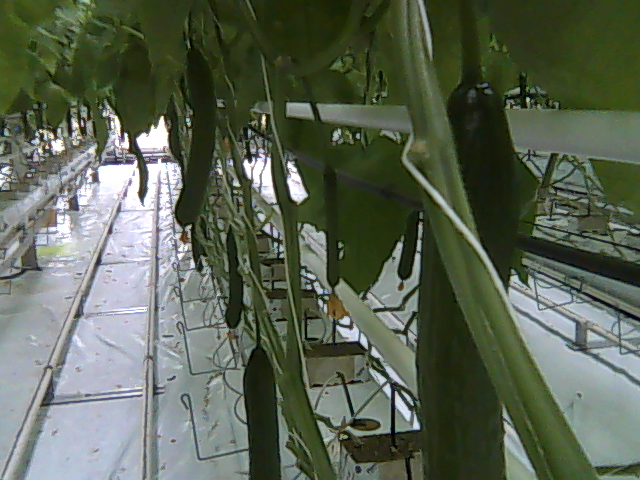concombre: (414, 68, 520, 480), (240, 334, 285, 480)
